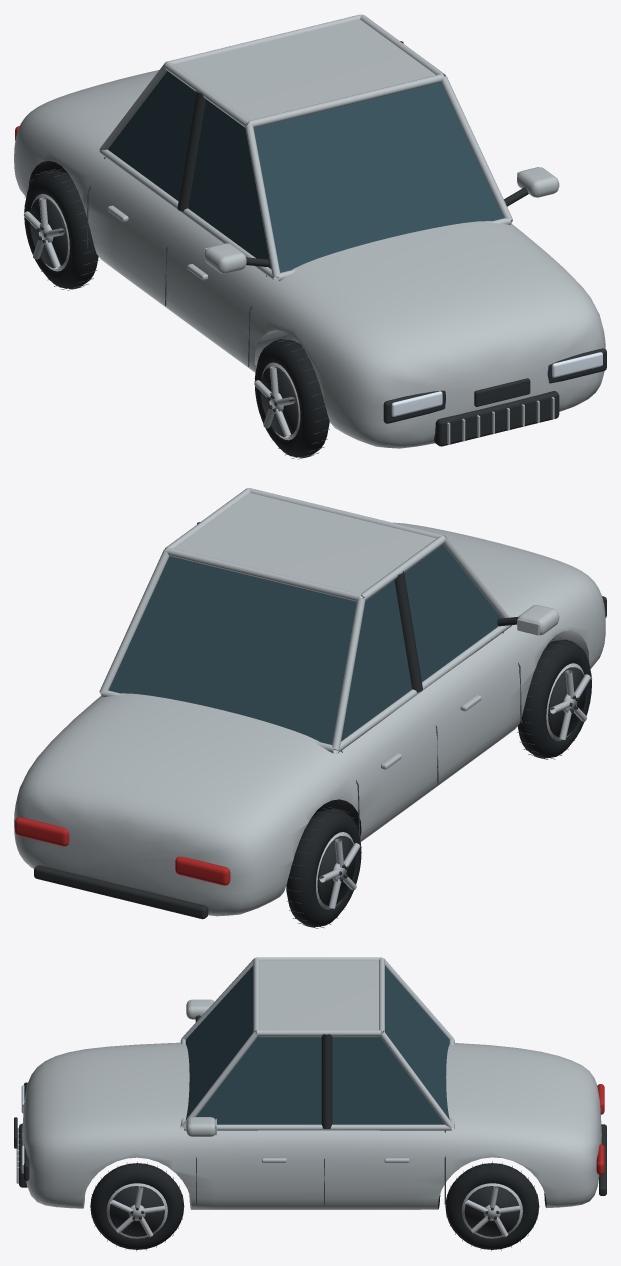
File: vehicle-suv-lod0.glb
3 renders of one model, top to bottom at view 1: azimuth 30°, elevation 25°; view 2: azimuth 150°, elevation 25°; view 3: azimuth 270°, elevation 25°, orthographic. The views are drawn at different scales.
Visible parts, largest first — view 1: vehicle-suv_MATERIAL_BATCH; view 2: vehicle-suv_MATERIAL_BATCH; view 3: vehicle-suv_MATERIAL_BATCH.
Part boxes in pixels (x1=…): vehicle-suv_MATERIAL_BATCH: x1=14, y1=14, x2=606, y2=459; vehicle-suv_MATERIAL_BATCH: x1=14, y1=488, x2=606, y2=928; vehicle-suv_MATERIAL_BATCH: x1=14, y1=957, x2=606, y2=1251.
Bounding box in the file's own units: 2.42 × 1.82 × 4.74.
